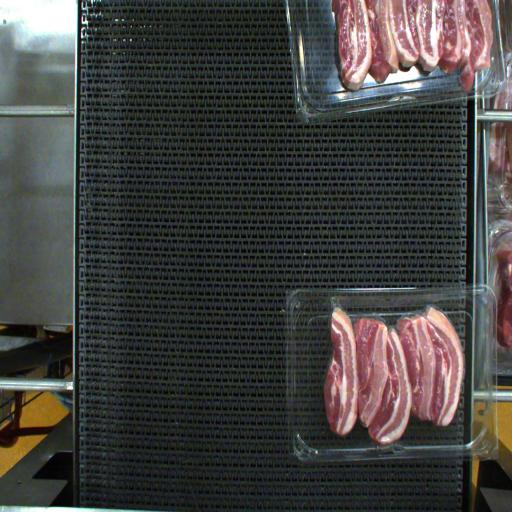unsealed: (326, 297, 470, 414)
